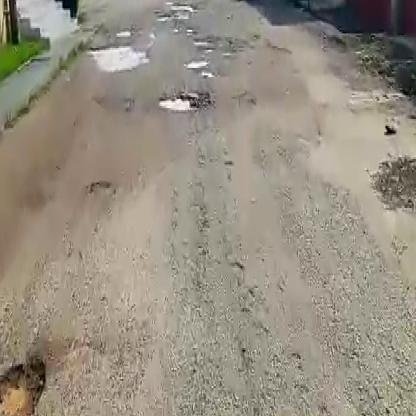pothole: (0, 356, 44, 416), (89, 40, 145, 69), (155, 89, 199, 112), (193, 33, 240, 49)
